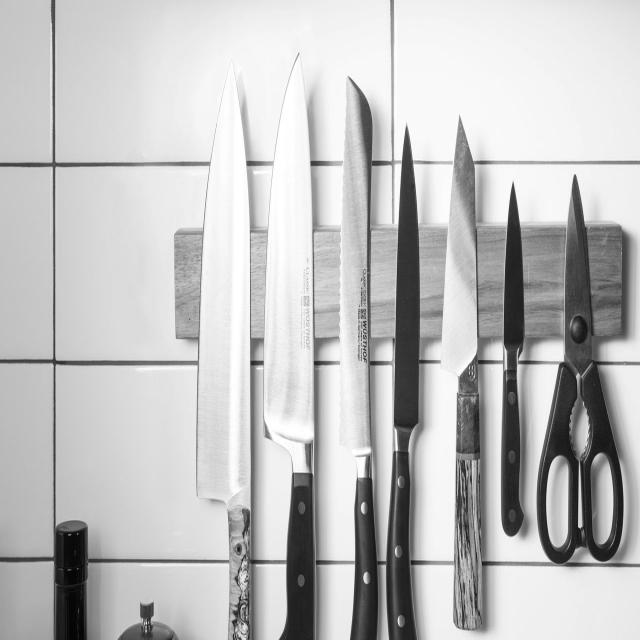Knife: (258, 44, 319, 640), (194, 60, 256, 640), (335, 80, 384, 640), (444, 98, 488, 640), (385, 116, 422, 640), (493, 182, 535, 553)
